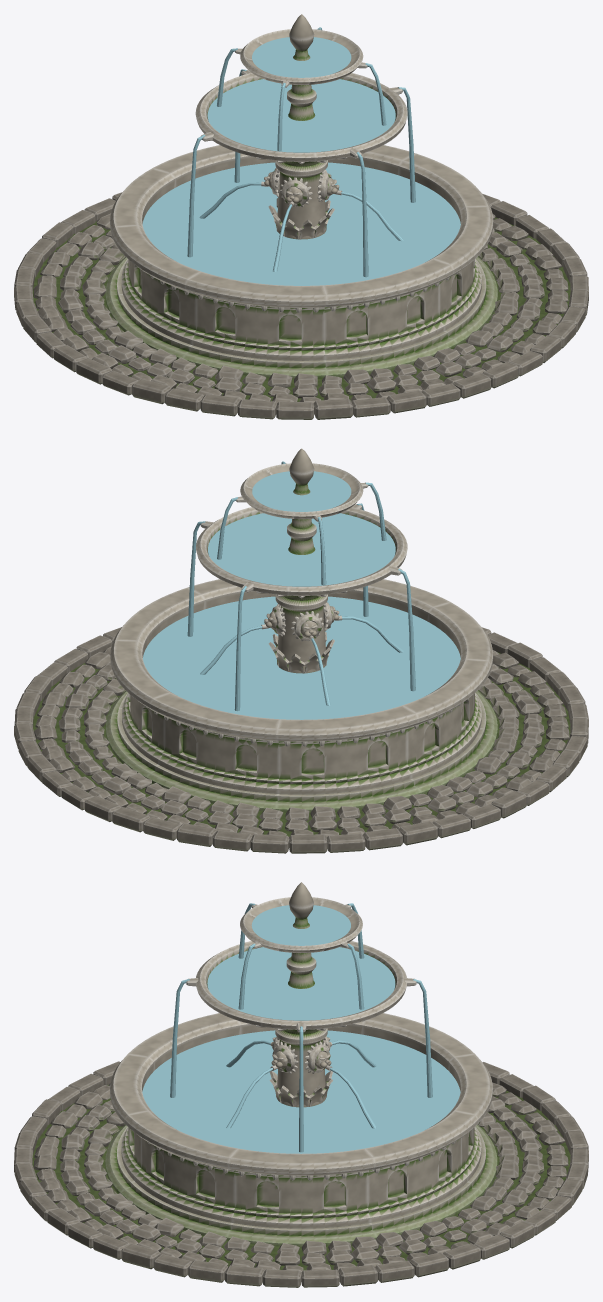
Rendered from ornate_fountain.glb.
3 views of the same model, one above another, from view 1: azimuth 30°, elevation 25°; view 2: azimuth 150°, elevation 25°; view 3: azimuth 270°, elevation 25° (orthographic).
Visible parts, largest first — view 1: basin_7, basin_0, basin_6, basin_1, basin_water_5, basin_water_2, basin_water_1, basin_water_6, basin_water_0, basin_water_7, basin_water_4, basin_5 (+47 smaller); view 2: basin_5, basin_4, basin_6, basin_3, basin_water_7, basin_water_2, basin_water_3, basin_water_6, basin_water_4, basin_water_5, basin_water_0, basin_2 (+44 smaller); view 3: basin_2, basin_3, basin_1, basin_water_0, basin_water_4, basin_water_5, basin_water_7, basin_water_3, basin_water_1, basin_4, basin_0, basin_water_2 (+46 smaller).
Part boxes in pixels (x1,y1,x2,y2): basin_7: [185, 271, 326, 360]; basin_0: [323, 258, 453, 360]; basin_6: [111, 225, 200, 344]; basin_1: [430, 206, 493, 330]; basin_water_5: [142, 188, 276, 237]; basin_water_2: [326, 175, 459, 227]; basin_water_1: [321, 220, 460, 266]; basin_water_6: [148, 230, 285, 275]; basin_water_0: [305, 235, 415, 285]; basin_water_7: [217, 237, 319, 285]; basin_water_4: [175, 162, 277, 219]; basin_5: [110, 168, 174, 293]; basin_5: [277, 705, 418, 794]; basin_4: [150, 692, 279, 793]; basin_6: [402, 659, 491, 778]; basin_3: [110, 640, 173, 764]; basin_water_7: [326, 622, 460, 671]; basin_water_2: [144, 609, 276, 661]; basin_water_3: [142, 654, 281, 699]; basin_water_6: [317, 664, 455, 709]; basin_water_4: [187, 669, 298, 719]; basin_water_5: [284, 671, 386, 719]; basin_water_0: [325, 596, 427, 653]; basin_2: [112, 587, 204, 703]; basin_2: [228, 1148, 374, 1228]; basin_3: [365, 1110, 478, 1222]; basin_1: [124, 1110, 237, 1222]; basin_water_0: [142, 1071, 277, 1120]; basin_water_4: [324, 1071, 460, 1120]; basin_water_5: [325, 1034, 448, 1092]; basin_water_7: [154, 1034, 277, 1092]; basin_water_3: [311, 1101, 439, 1149]; basin_water_1: [163, 1101, 291, 1149]; basin_4: [449, 1054, 492, 1181]; basin_0: [110, 1054, 153, 1180]; basin_water_2: [249, 1106, 353, 1153].
Size of the model in its own units: 5.05 by 2.76 by 5.05.
4 materials, 4 textured.
